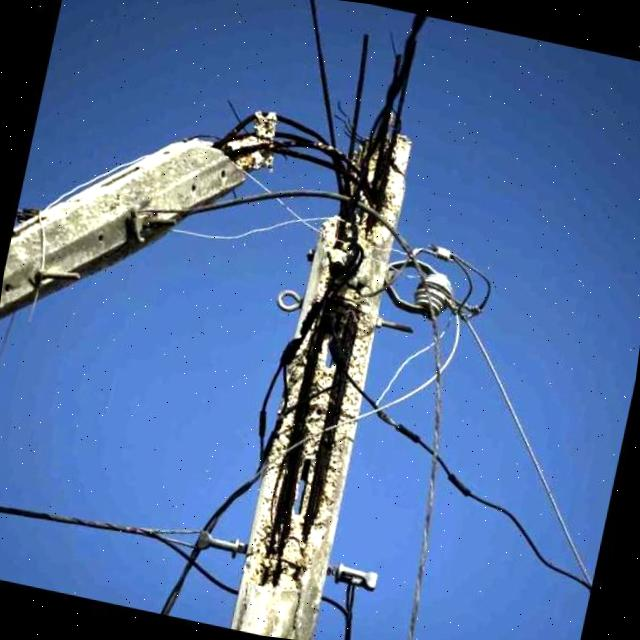Broken Pole: (0, 0, 475, 636)
